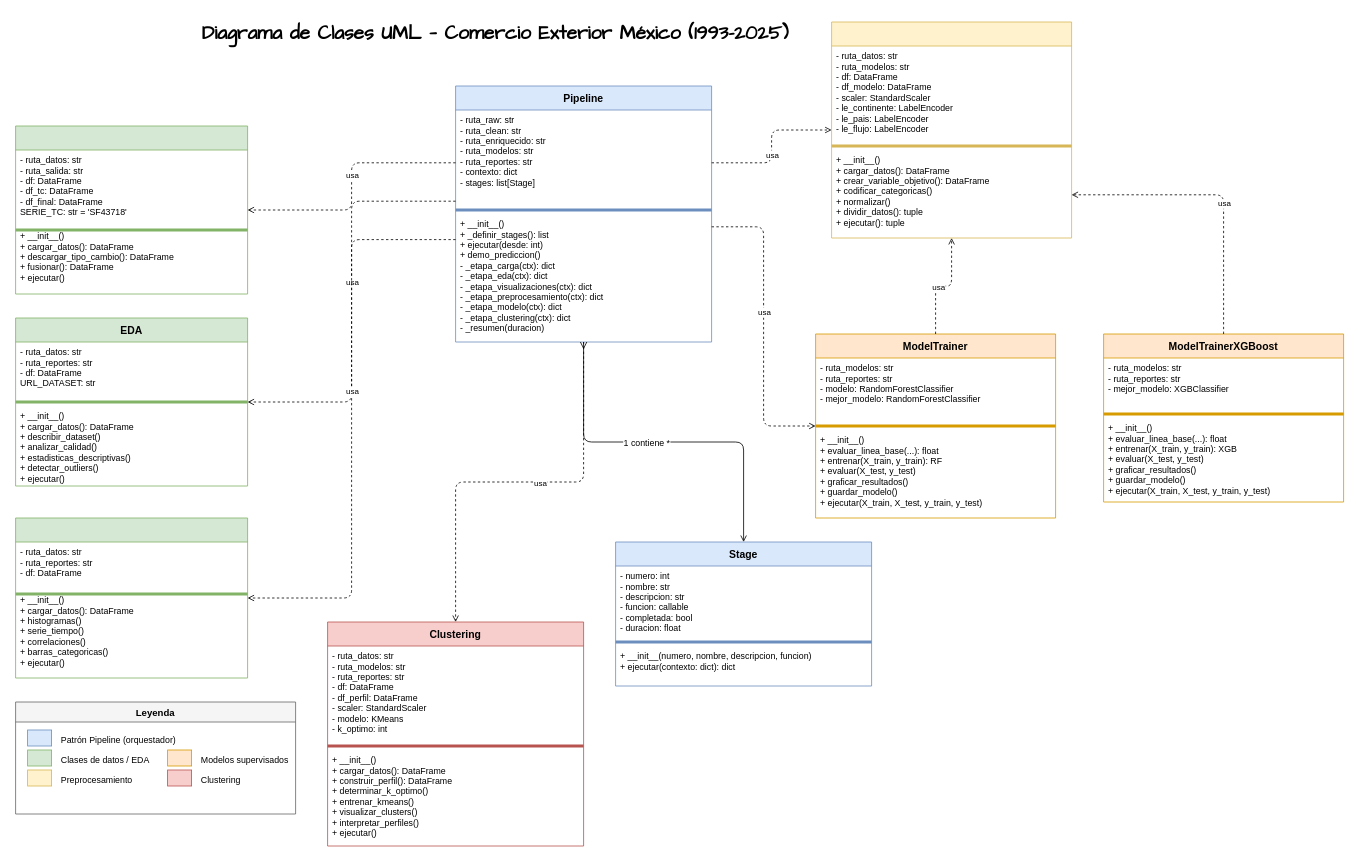
Some shapes in this 1358 by 860 pixel diagram are drawn without their labels. The shapes that lost their labels are listed below. From the top down, each one's box as (x1, y1, x2, y2) in pixels, then its label:
(831, 21, 1072, 238): Preprocessor
(15, 125, 248, 294): DataLoader
(15, 517, 248, 678): EDAVisualizaciones
